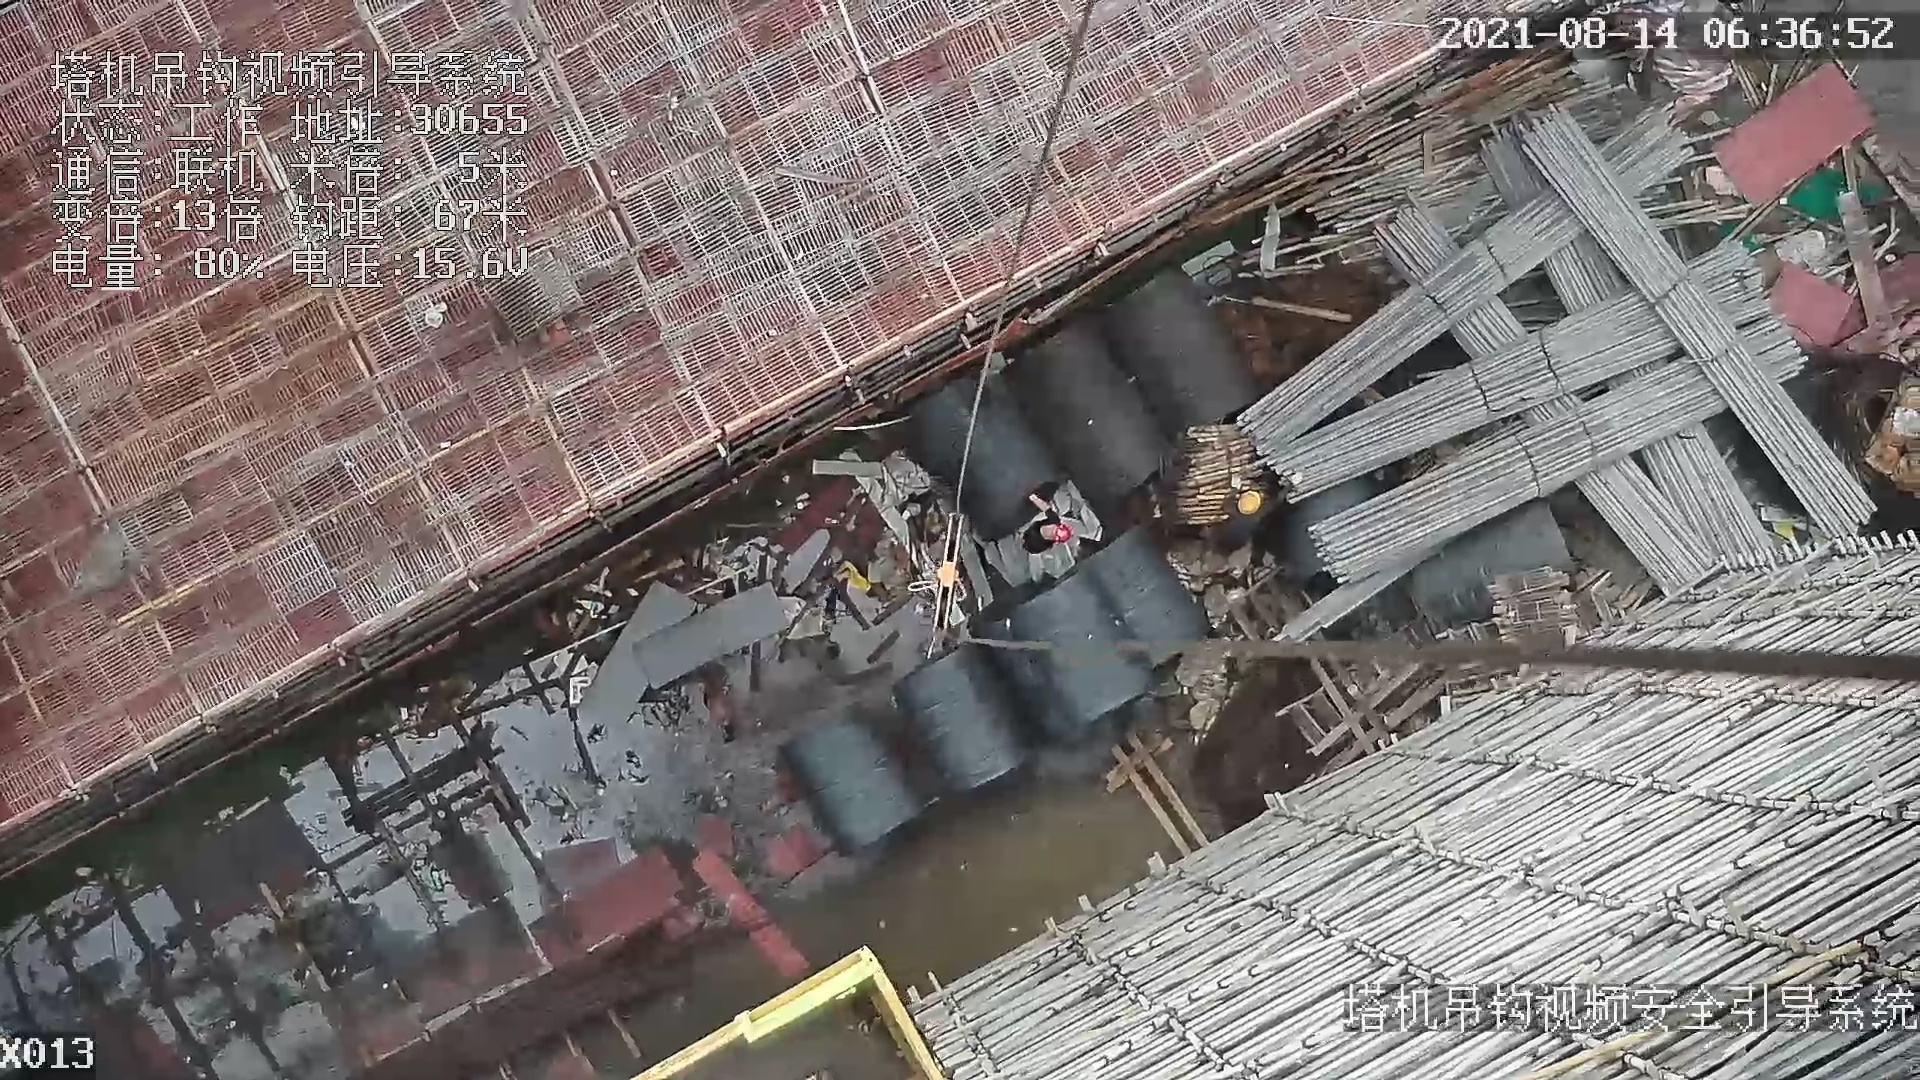helmet: (1231, 488, 1261, 516), (1054, 522, 1071, 546)
hook: (914, 515, 968, 635)
person: (1209, 480, 1301, 554), (1018, 491, 1095, 564)
scaffold: (1259, 100, 1874, 603), (1150, 391, 1268, 533)
